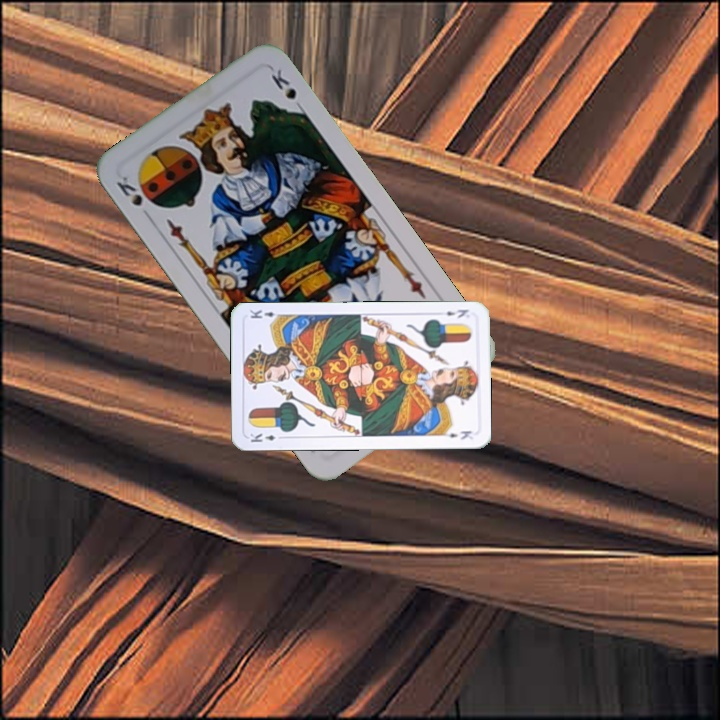EK: (246, 430, 286, 445), (442, 305, 471, 320)
SK: (112, 171, 154, 223)
